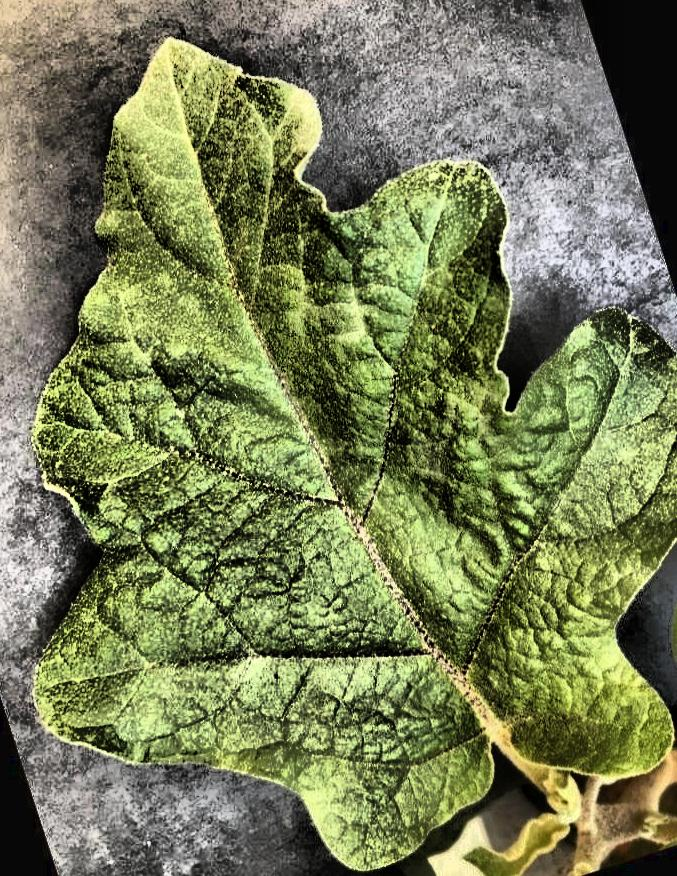HEALTHY: (1, 0, 677, 876)
